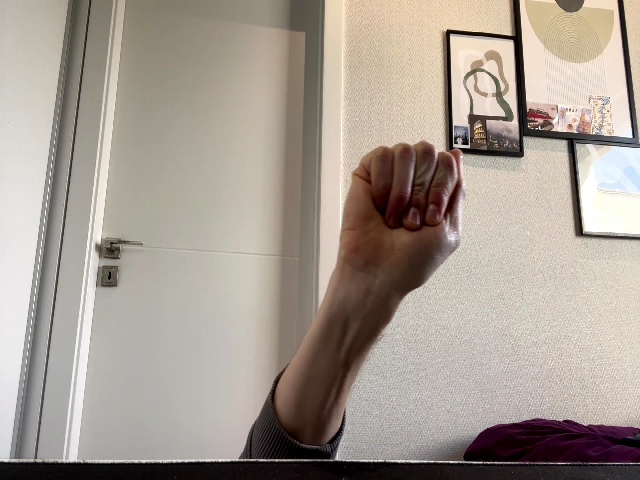A: (337, 141, 464, 298)
